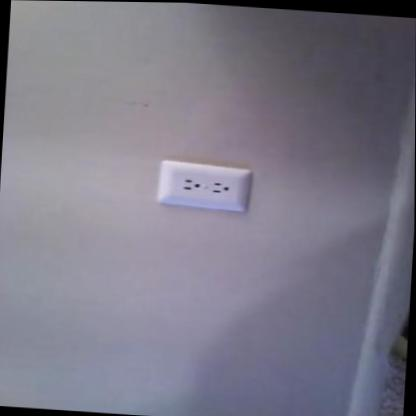OUTLET: (156, 158, 249, 211)
